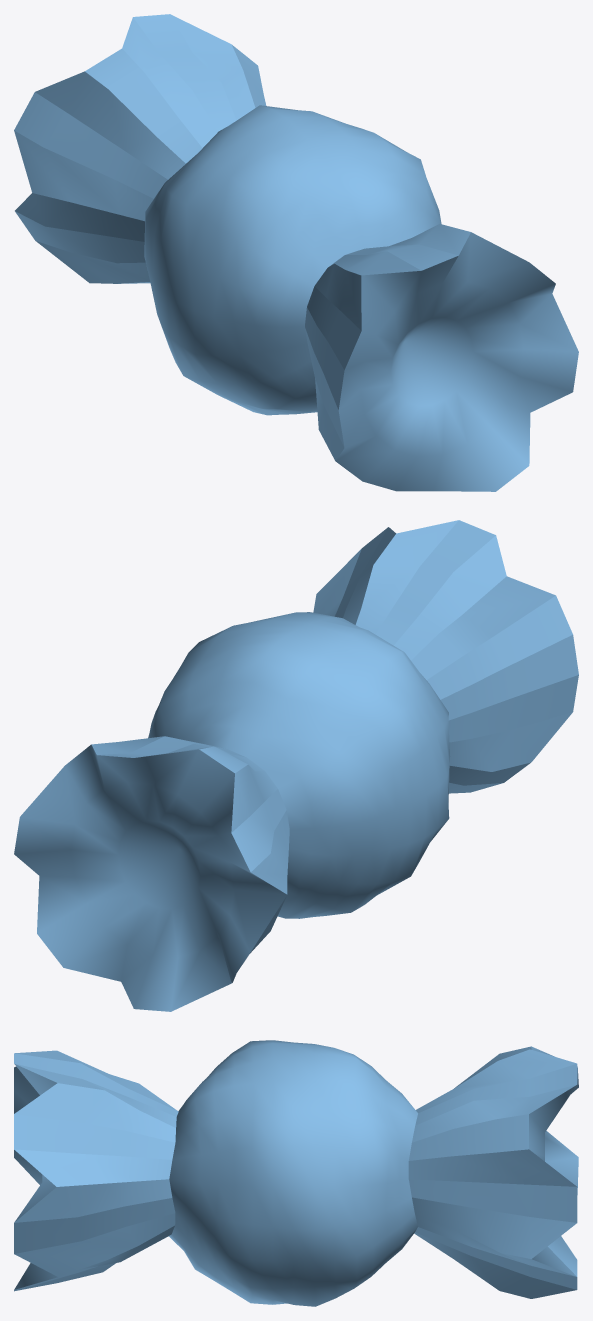
The model's file is candyRound_low.fbx.
3 renders of one model, top to bottom at view 1: azimuth 30°, elevation 25°; view 2: azimuth 150°, elevation 25°; view 3: azimuth 270°, elevation 25°, orthographic. The views are drawn at different scales.
Parts seen in each view (by area): view 1: CandyRound_low; view 2: CandyRound_low; view 3: CandyRound_low.
Part boxes in pixels (x1,y1,x2,y2): CandyRound_low: (14, 14, 578, 491); CandyRound_low: (14, 520, 578, 1011); CandyRound_low: (14, 1040, 578, 1306).
Bounding box in the file's own units: 0.044 × 0.0442 × 0.0932.
